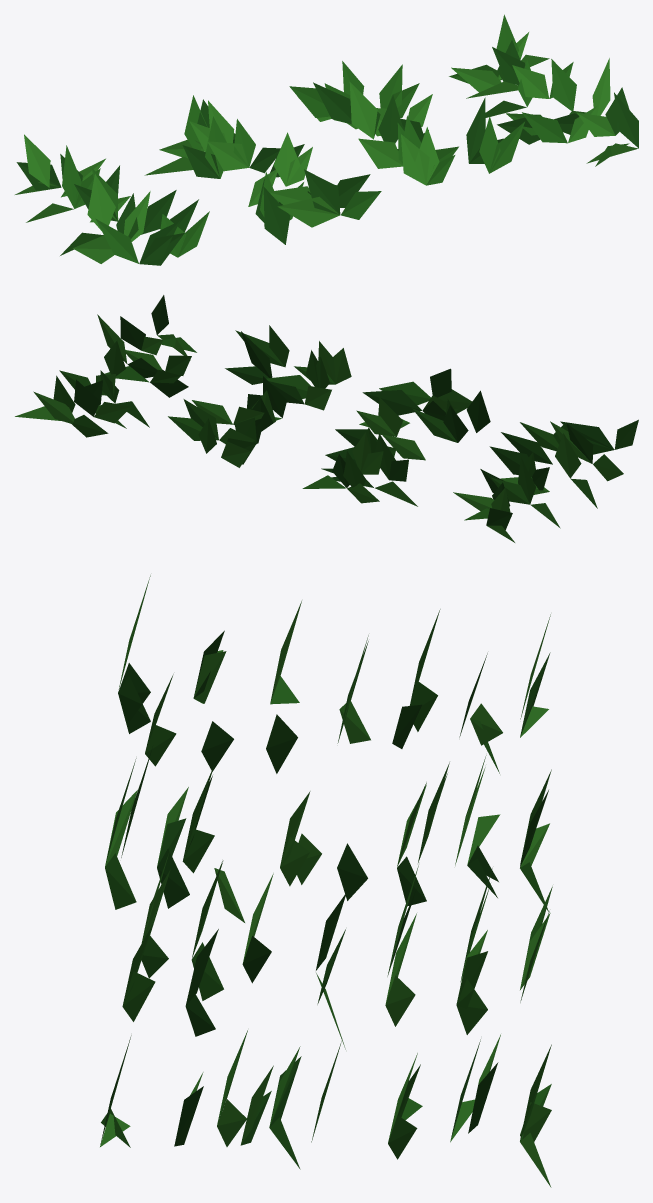
3 views of the same model, one above another, from view 1: azimuth 30°, elevation 25°; view 2: azimuth 150°, elevation 25°; view 3: azimuth 270°, elevation 25° (orthographic). The views are drawn at different scales.
Visible parts, largest first — view 1: r21c4_l00; view 2: r21c4_l00; view 3: r21c4_l00.
Boxes of the visible parts, x1,y1,x2,y2 form: r21c4_l00: [15, 14, 638, 265]; r21c4_l00: [15, 295, 638, 542]; r21c4_l00: [100, 575, 552, 1187].
Bounding box in the file's own units: 1.74 × 0.2368 × 0.6471.
